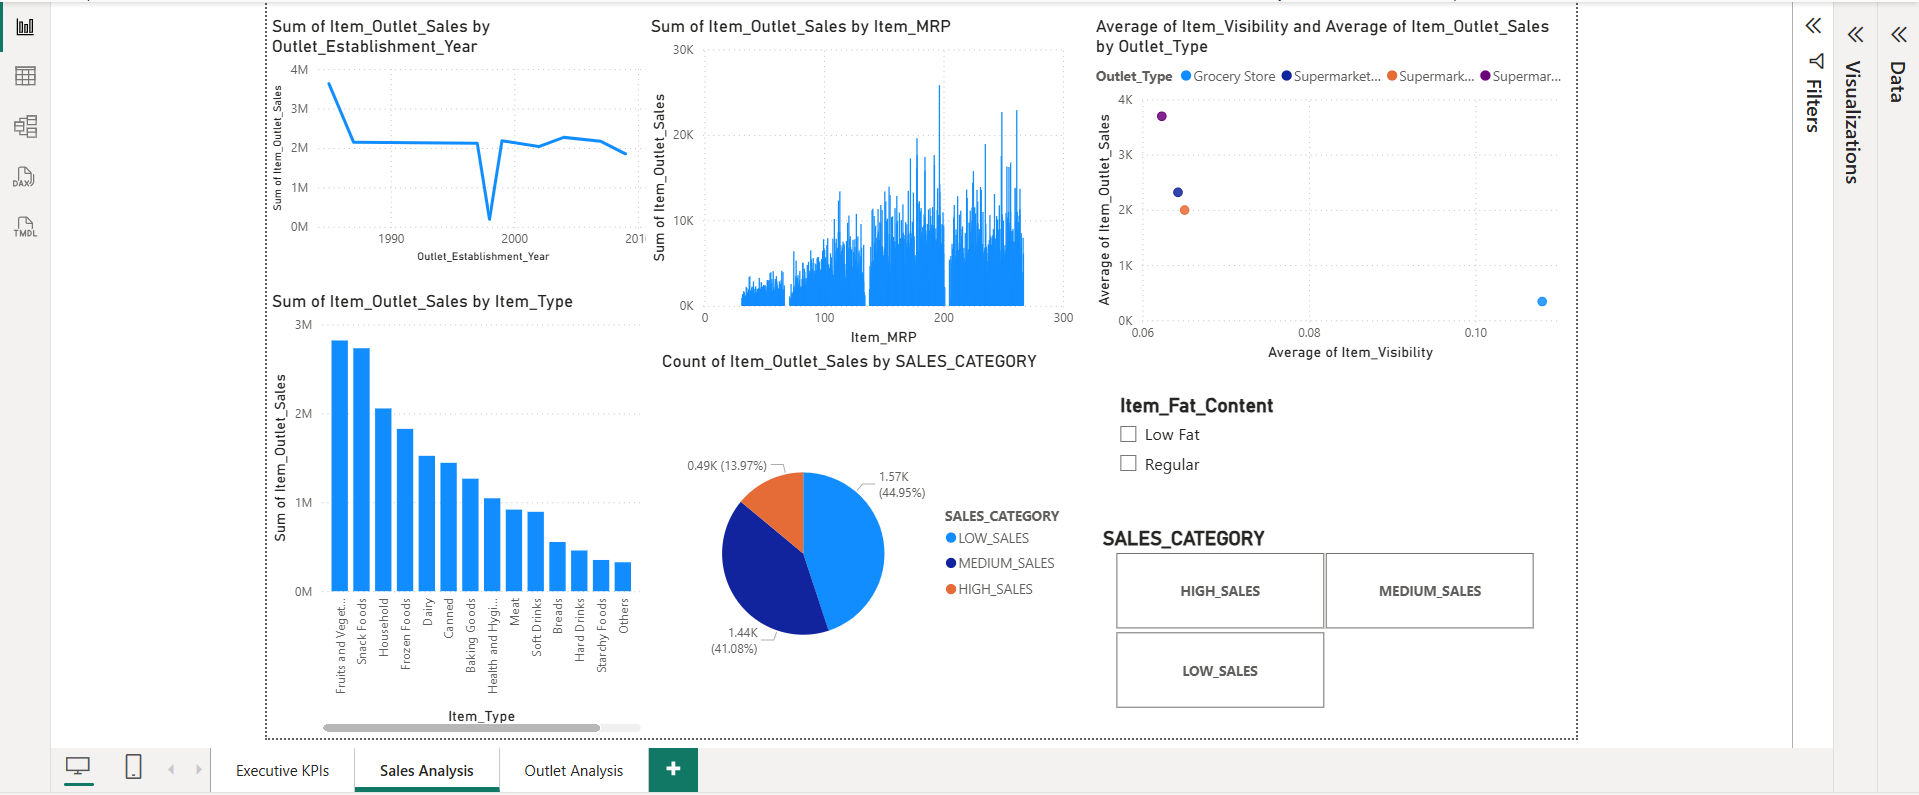

This screenshot's page, from the dashboard's own definition file:
{"tool":"powerbi","page":{"name":"Sales Analysis","canvas":[1280,720],"ordinal":1},"visuals":[{"type":"lineChart","fields":{"Category":["BLINKIT_CLEANED.Outlet_Establishment_Year"],"Y":["Sum(BLINKIT_CLEANED.Item_Outlet_Sales)"]},"box":[0,14,381,246.4],"z":0},{"type":"clusteredColumnChart","fields":{"Category":["BLINKIT_CLEANED.Item_Type"],"Y":["Sum(BLINKIT_CLEANED.Item_Outlet_Sales)"]},"box":[0,282,370.9,436.9],"z":1000},{"type":"clusteredColumnChart","fields":{"Category":["BLINKIT_CLEANED.Item_MRP"],"Y":["Sum(BLINKIT_CLEANED.Item_Outlet_Sales)"]},"box":[370.9,14,424.2,327.7],"z":2000},{"type":"pieChart","fields":{"Y":["Count(BLINKIT_CLEANED.Item_Outlet_Sales)"],"Category":["BLINKIT_CLEANED.SALES_CATEGORY"]},"box":[381,341.4,414.6,378],"z":3000},{"type":"scatterChart","fields":{"X":["Avg(BLINKIT_CLEANED.Item_Visibility)"],"Y":["Avg(BLINKIT_CLEANED.Item_Outlet_Sales)"],"Series":["BLINKIT_CLEANED.Outlet_Type"]},"box":[805.2,14,475,341.7],"z":4000},{"type":"slicer","fields":{"Values":["BLINKIT_CLEANED.Item_Fat_Content"]},"box":[821.8,378.5,458.5,121.9],"z":5000},{"type":"slicer","fields":{"Values":["BLINKIT_CLEANED.SALES_CATEGORY"]},"box":[804.8,509.1,458.8,189],"z":6000}]}

Visuals, with their boxes on the page's 1280x720 design canvas (x1, y1, x2, y2). These are canvas units, not pixel positions in the 1919x795 screenshot, which may show the page scaled, cropped or inside an application window:
lineChart - BLINKIT_CLEANED.Outlet_Establishment_Year x Sum(BLINKIT_CLEANED.Item_Outlet_Sales): detection(0, 14, 381, 260)
clusteredColumnChart - BLINKIT_CLEANED.Item_Type x Sum(BLINKIT_CLEANED.Item_Outlet_Sales): detection(0, 282, 371, 719)
clusteredColumnChart - BLINKIT_CLEANED.Item_MRP x Sum(BLINKIT_CLEANED.Item_Outlet_Sales): detection(371, 14, 795, 342)
pieChart - Count(BLINKIT_CLEANED.Item_Outlet_Sales) x BLINKIT_CLEANED.SALES_CATEGORY: detection(381, 341, 796, 719)
scatterChart - Avg(BLINKIT_CLEANED.Item_Visibility) x Avg(BLINKIT_CLEANED.Item_Outlet_Sales): detection(805, 14, 1280, 356)
slicer - BLINKIT_CLEANED.Item_Fat_Content: detection(822, 378, 1280, 500)
slicer - BLINKIT_CLEANED.SALES_CATEGORY: detection(805, 509, 1264, 698)
